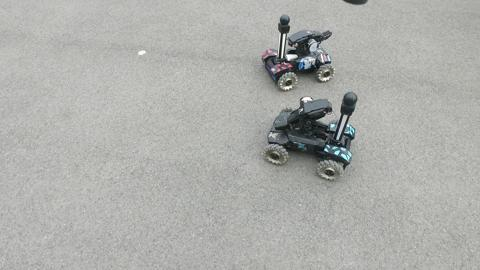chariot: (262, 90, 367, 185), (255, 12, 344, 91)
